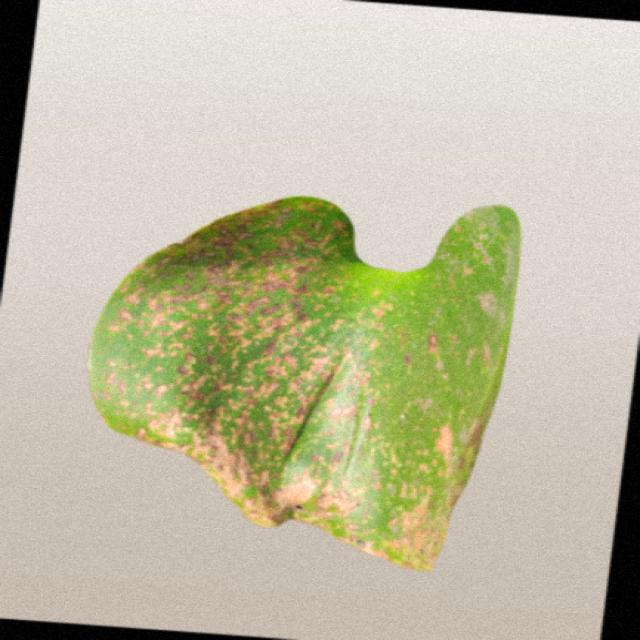daun berpenyakit bercak: (90, 198, 518, 570)
